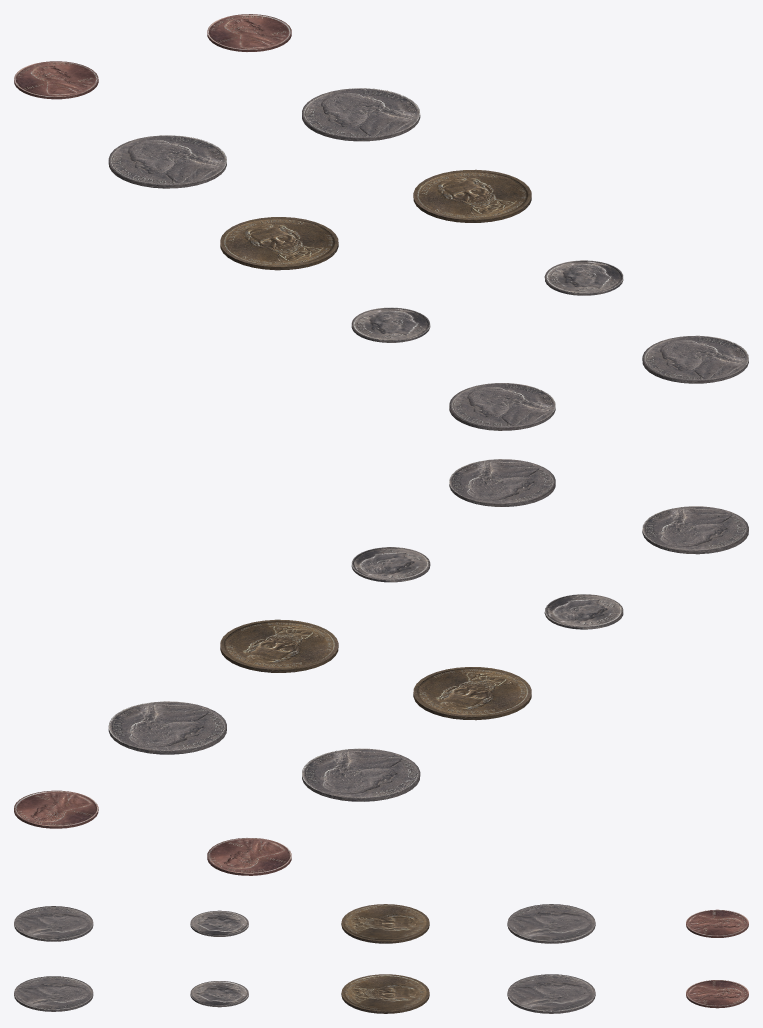
The model's file is US Coins OBj.obj.
3 renders of one model, top to bottom at view 1: azimuth 30°, elevation 25°; view 2: azimuth 150°, elevation 25°; view 3: azimuth 270°, elevation 25°, orthographic. The views are drawn at different scales.
Parts seen in each view (by area): view 1: US_Coins_SD FiveCent, Us_Coins_MD FiveCent, US_Coins_SD HundredCent, Us_Coins_MD HundredCent, Us_Coins_MD TwentyFiveCent, US_Coins_SD TwentyFiveCent, OneCent US_Coins_SD, OneCent Us_Coins_MD, Us_Coins_MD TenCent, US_Coins_SD TenCent; view 2: Us_Coins_MD FiveCent, US_Coins_SD FiveCent, Us_Coins_MD HundredCent, US_Coins_SD HundredCent, US_Coins_SD TwentyFiveCent, Us_Coins_MD TwentyFiveCent, OneCent Us_Coins_MD, OneCent US_Coins_SD, US_Coins_SD TenCent, Us_Coins_MD TenCent; view 3: US_Coins_SD HundredCent, Us_Coins_MD HundredCent, US_Coins_SD FiveCent, Us_Coins_MD FiveCent, US_Coins_SD TwentyFiveCent, Us_Coins_MD TwentyFiveCent, OneCent US_Coins_SD, OneCent Us_Coins_MD, US_Coins_SD TenCent, Us_Coins_MD TenCent.
Boxes of the visible parts, left/top/right/bottom form: US_Coins_SD FiveCent: left=108, top=135, right=226, bottom=188; Us_Coins_MD FiveCent: left=302, top=88, right=420, bottom=141; US_Coins_SD HundredCent: left=220, top=217, right=338, bottom=270; Us_Coins_MD HundredCent: left=413, top=169, right=531, bottom=222; Us_Coins_MD TwentyFiveCent: left=642, top=335, right=748, bottom=383; US_Coins_SD TwentyFiveCent: left=449, top=383, right=555, bottom=430; OneCent US_Coins_SD: left=14, top=61, right=98, bottom=99; OneCent Us_Coins_MD: left=207, top=14, right=291, bottom=51; Us_Coins_MD TenCent: left=544, top=260, right=623, bottom=295; US_Coins_SD TenCent: left=351, top=307, right=430, bottom=342; Us_Coins_MD FiveCent: left=108, top=701, right=226, bottom=754; US_Coins_SD FiveCent: left=302, top=748, right=420, bottom=801; Us_Coins_MD HundredCent: left=220, top=619, right=338, bottom=672; US_Coins_SD HundredCent: left=413, top=667, right=531, bottom=720; US_Coins_SD TwentyFiveCent: left=642, top=506, right=748, bottom=554; Us_Coins_MD TwentyFiveCent: left=449, top=459, right=555, bottom=506; OneCent Us_Coins_MD: left=14, top=790, right=98, bottom=828; OneCent US_Coins_SD: left=207, top=838, right=291, bottom=875; US_Coins_SD TenCent: left=544, top=594, right=623, bottom=629; Us_Coins_MD TenCent: left=351, top=547, right=430, bottom=582; US_Coins_SD HundredCent: left=341, top=904, right=429, bottom=943; Us_Coins_MD HundredCent: left=341, top=974, right=429, bottom=1013; US_Coins_SD FiveCent: left=507, top=904, right=595, bottom=943; Us_Coins_MD FiveCent: left=507, top=974, right=595, bottom=1013; US_Coins_SD TwentyFiveCent: left=14, top=906, right=93, bottom=941; Us_Coins_MD TwentyFiveCent: left=14, top=976, right=93, bottom=1011; OneCent US_Coins_SD: left=686, top=909, right=748, bottom=937; OneCent Us_Coins_MD: left=686, top=980, right=748, bottom=1008; US_Coins_SD TenCent: left=190, top=910, right=248, bottom=936; Us_Coins_MD TenCent: left=190, top=981, right=248, bottom=1007.
Bounding box in the file's own units: 7.66 × 0.0798 × 22.15.
5 materials, 5 textured.
